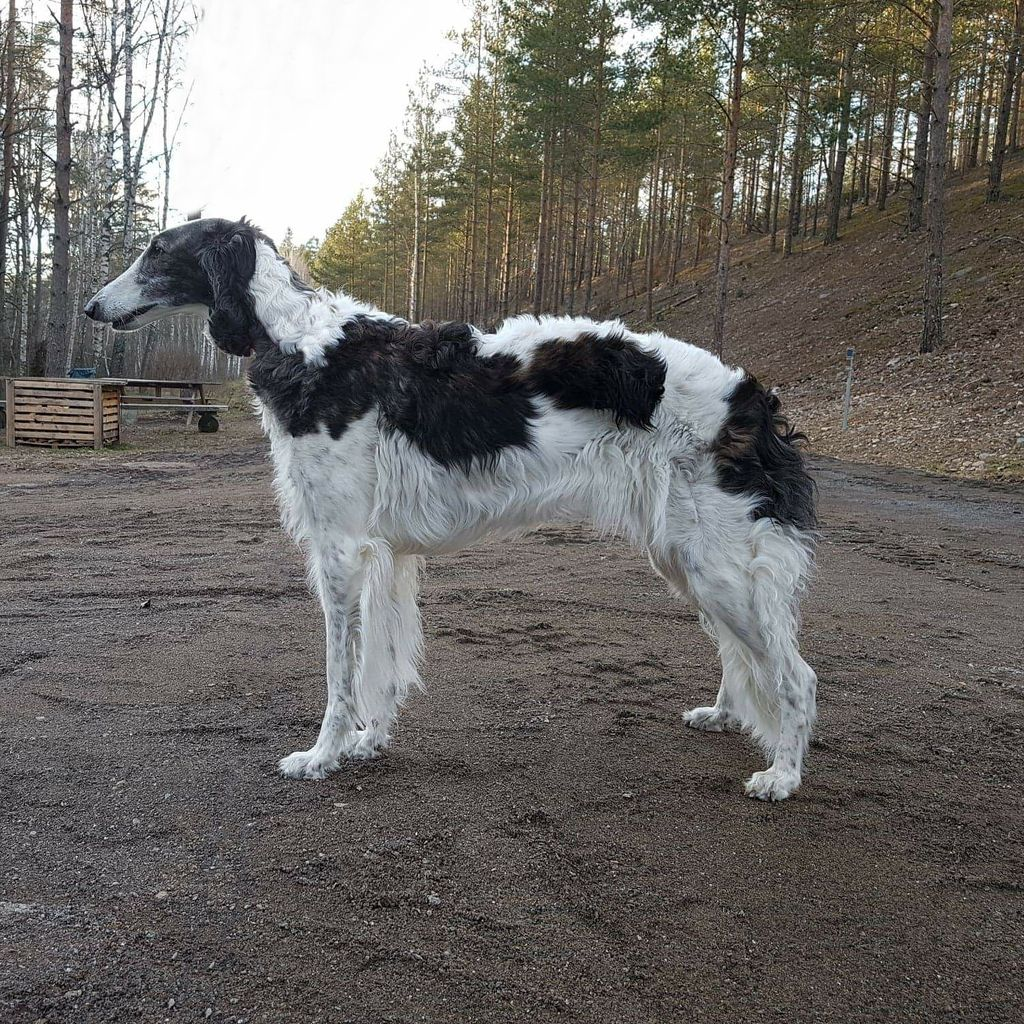borzoi: (75, 219, 880, 803)
